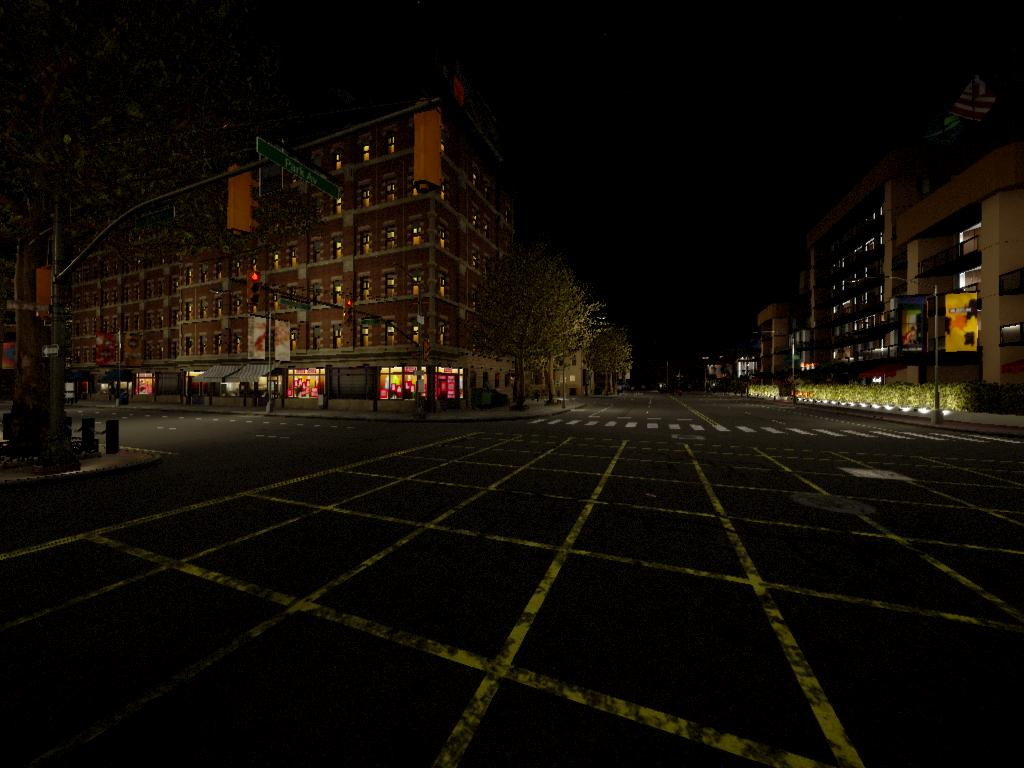traffic_light: (249, 270, 264, 306), (343, 297, 357, 327), (422, 342, 431, 363)
